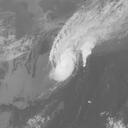cyclone: (48, 38, 87, 83)
